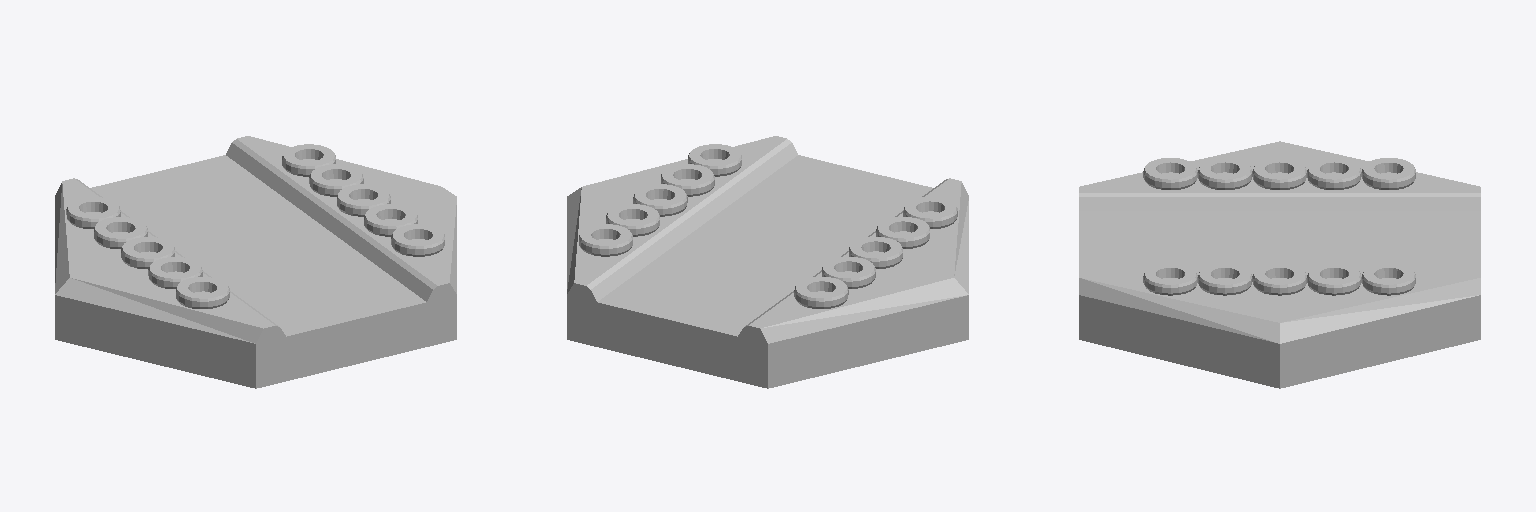
File: reifen.obj
3 views of the same model, side by side, from view 1: azimuth 30°, elevation 25°; view 2: azimuth 150°, elevation 25°; view 3: azimuth 270°, elevation 25° (orthographic).
Parts seen in each view (by area): view 1: reifen tracks og; view 2: reifen tracks og; view 3: reifen tracks og.
Boxes of the visible parts, x1,y1,x2,y2 form: reifen tracks og: [55, 136, 456, 388]; reifen tracks og: [567, 136, 968, 388]; reifen tracks og: [1079, 141, 1480, 388].
Size of the model in its own units: 2 by 0.3289 by 1.73.